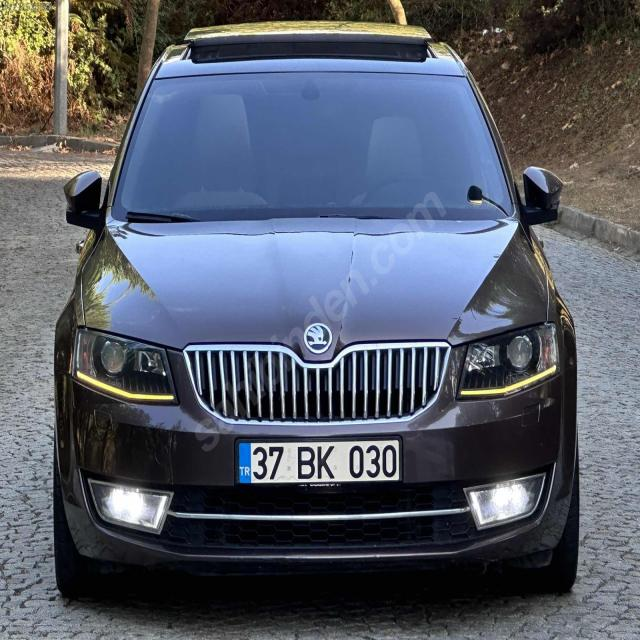skoda: (301, 316, 331, 354)
